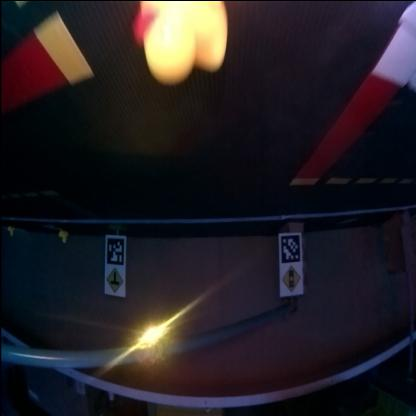Duckie: (136, 3, 227, 83), (59, 230, 67, 242), (7, 226, 14, 234)
Intersection sign: (106, 268, 124, 294)
QR code: (280, 235, 301, 263), (106, 238, 125, 266)
Signal sign: (281, 264, 301, 292)
